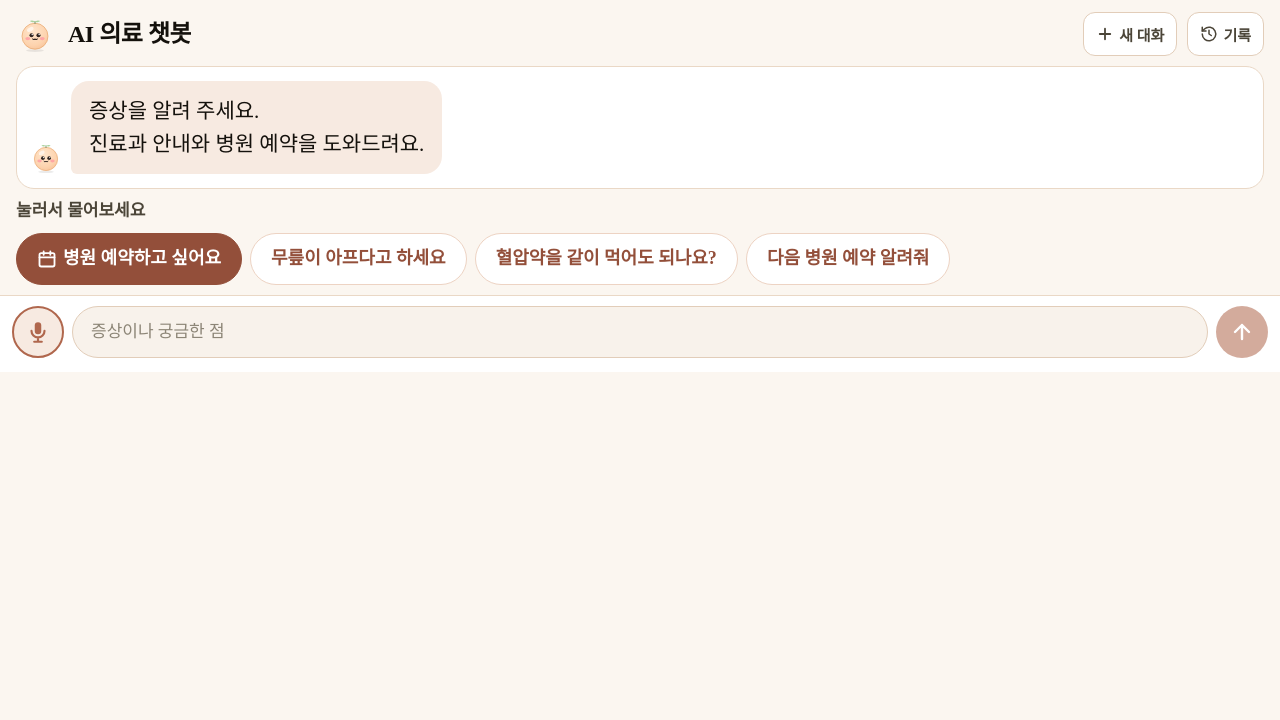
Scenario: 보호자 AI 의료 챗봇 › 서버가 상담 대상 칸을 주지 않으면(옛 서버) 나누지 않고 한 목록으로 보인다 (2026-11-11)
What coordinates should you click on to do the following:
click the button named "상담 기록"
I would click on:
 (1226, 34)
Its box is [1187, 12, 1264, 56].
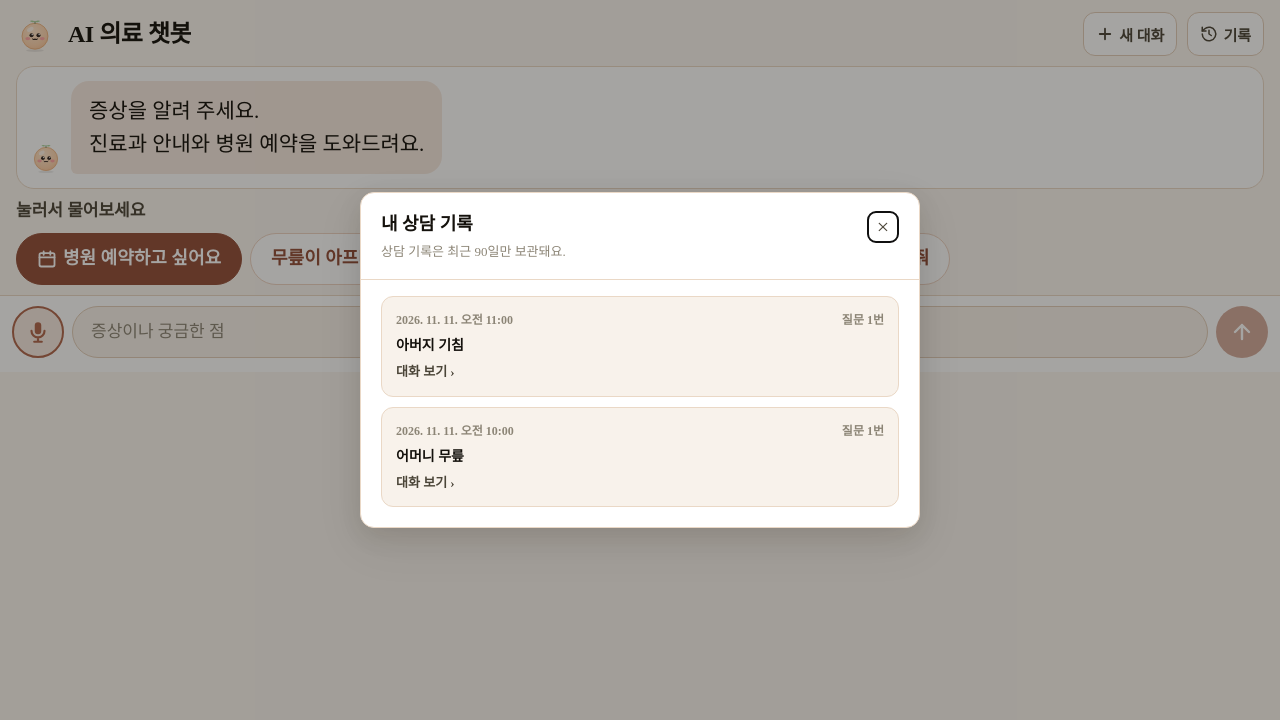
Result: the button "2026. 11. 11. 오전 11:00 질문 1번 아버지 기침 대화 보기 ›" is shown at [381, 296, 899, 397]
